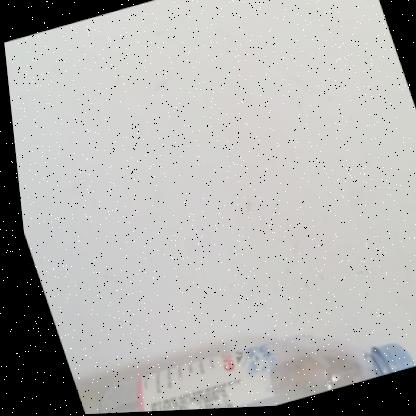Plastic: (90, 337, 407, 414)
